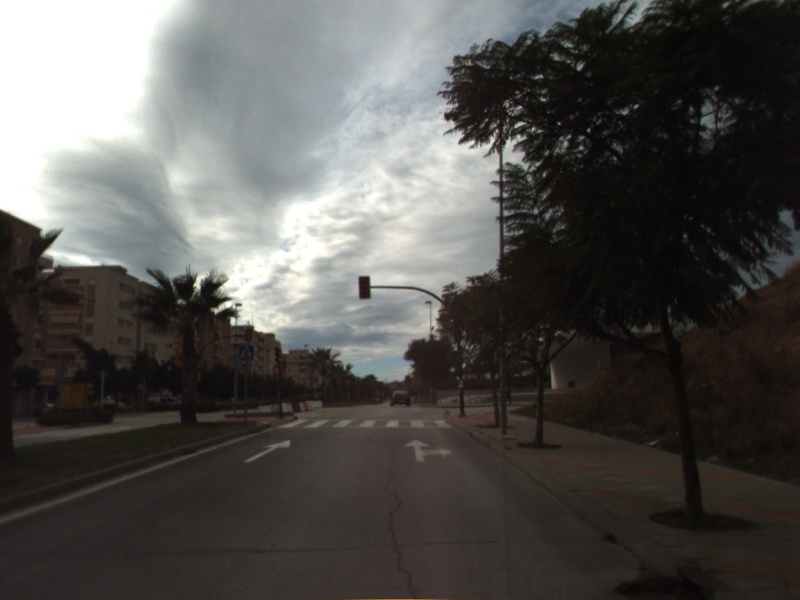STRAIGHT: (242, 438, 292, 464)
STRAIGHT_RIGHT: (402, 437, 454, 463)
